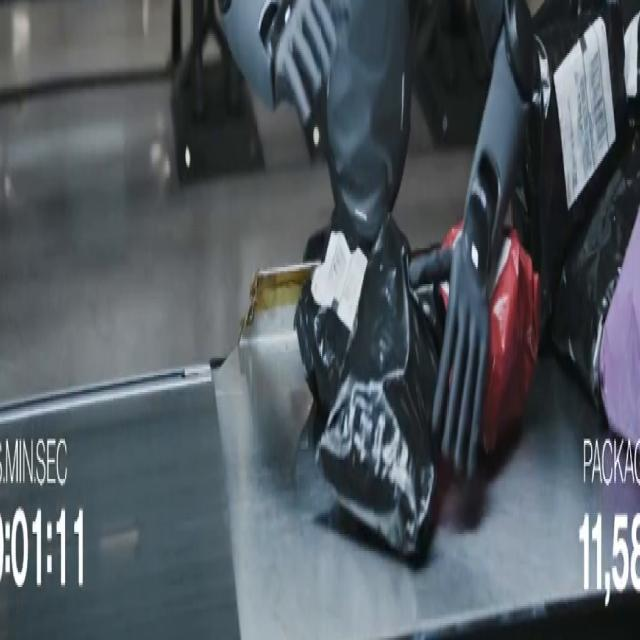package: (317, 219, 438, 557), (524, 3, 630, 332), (552, 149, 639, 406), (294, 208, 370, 417), (481, 229, 539, 453), (600, 219, 639, 445), (294, 270, 349, 415), (533, 0, 606, 31), (625, 13, 639, 131)
